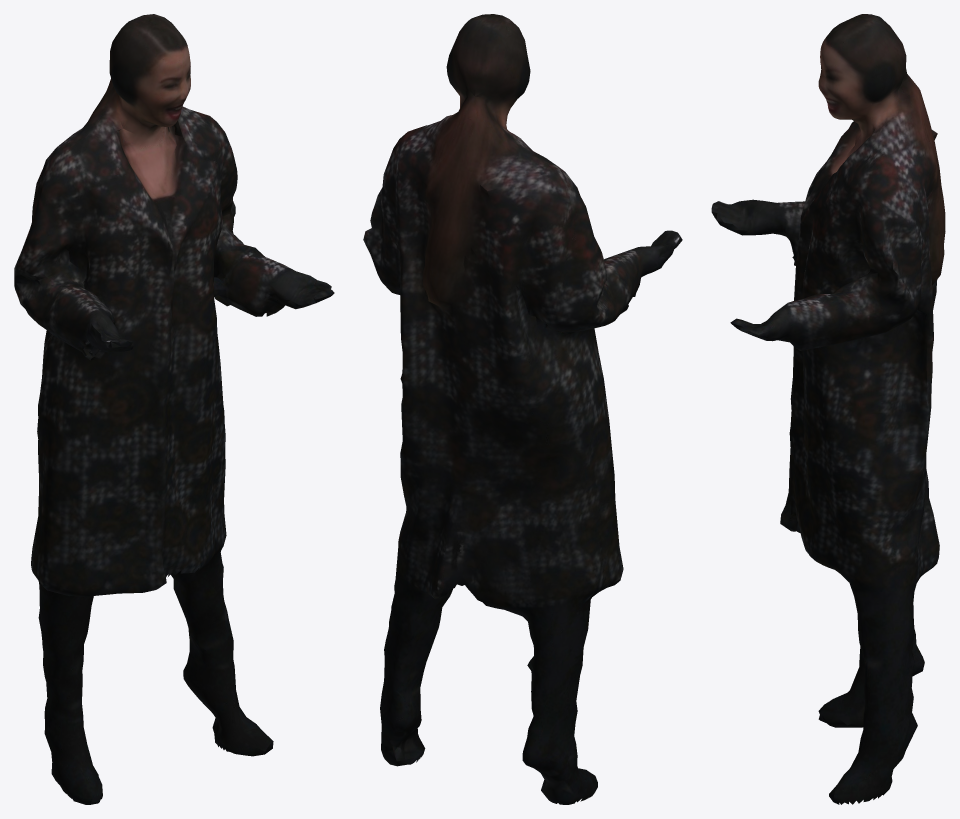
File: evercoast.0096.gltf
The picture shows the model from 3 angles, left to right: view 1: azimuth 30°, elevation 25°; view 2: azimuth 150°, elevation 25°; view 3: azimuth 270°, elevation 25°; orthographic projection. The views are drawn at different scales.
Visible parts, largest first — view 1: HIGH; view 2: HIGH; view 3: HIGH.
Part boxes in pixels (box(x1,y1,x2,y2)): HIGH: box(14, 14, 334, 804); HIGH: box(363, 14, 682, 804); HIGH: box(711, 14, 945, 804).
Size of the model in its own units: 0.6347 by 1.83 by 0.5231.
1 material, 1 textured.
